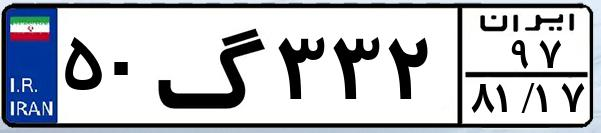0: (110, 28, 156, 98)
1: (495, 70, 520, 125), (535, 70, 560, 125)
2: (385, 28, 445, 110)
3: (270, 28, 330, 110), (330, 28, 385, 110)
5: (57, 26, 110, 100)
7: (560, 70, 590, 125), (537, 27, 568, 80)
8: (470, 70, 495, 125)
9: (508, 27, 537, 80)
گ: (156, 12, 270, 120)
